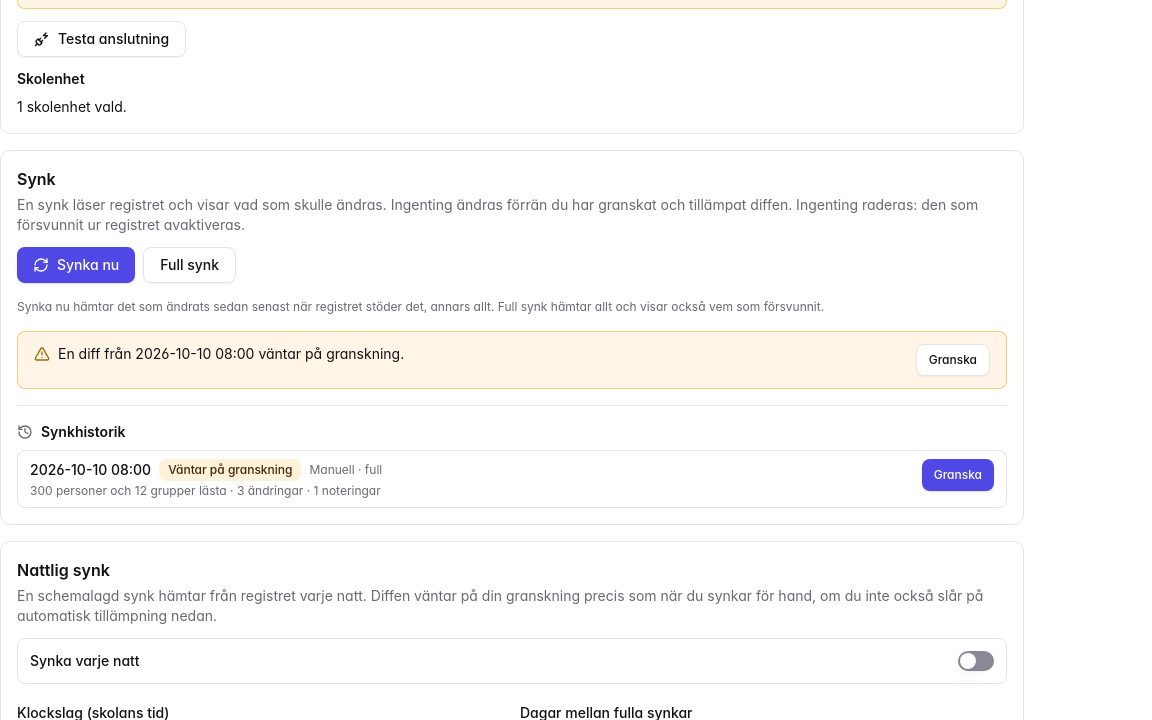
Test case: /admin/integrations — the register › applies nothing from a diff too large to load whole
(page scrolled)
Click the 1st button "Granska".
click(953, 360)  # box [916,344,990,376]
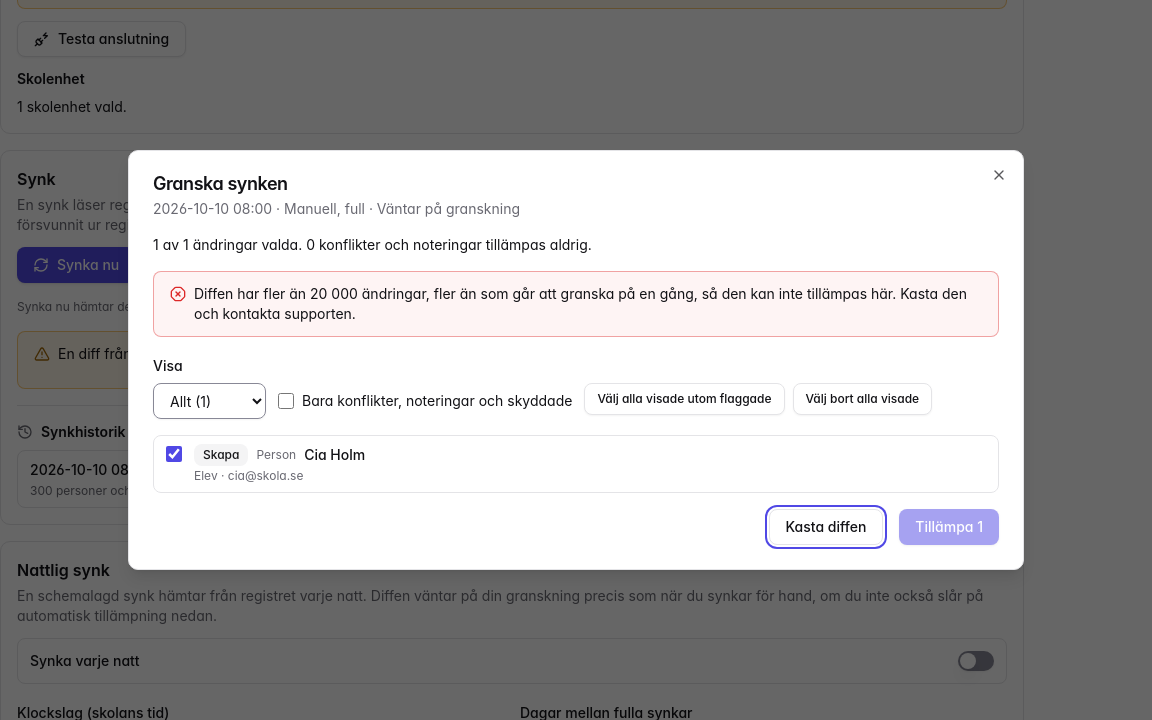
Expected: the 2nd message shows "Diffen har fler än 20 000 ändringar", [194,285,967,322]
Expected: the button "Tillämpa 1" is disabled, [899,509,999,545]
